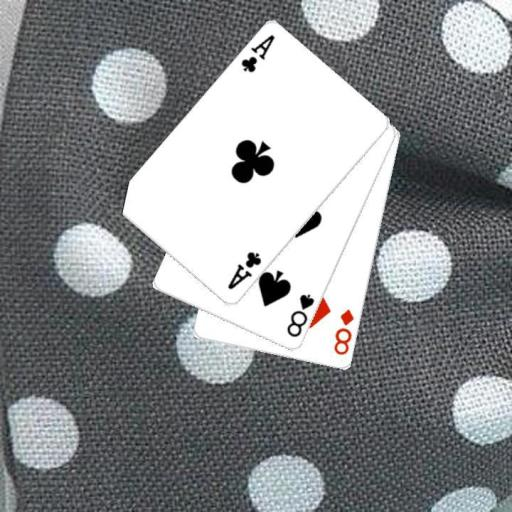8D: (331, 306, 356, 357)
8S: (283, 291, 316, 339)
AC: (224, 248, 263, 292), (238, 32, 277, 75)
